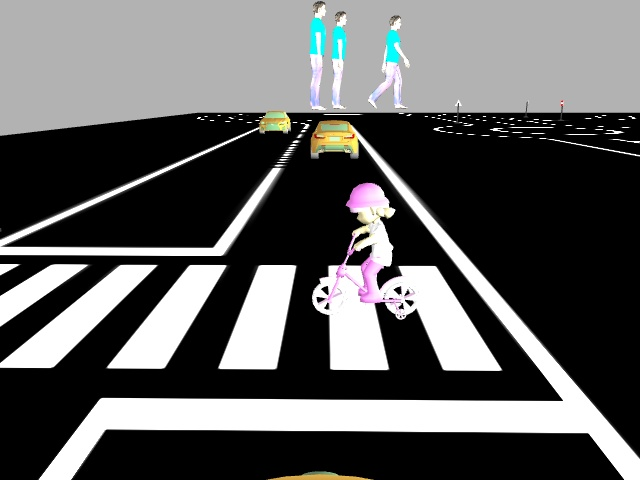Pedestrian: (311, 182, 427, 323)
